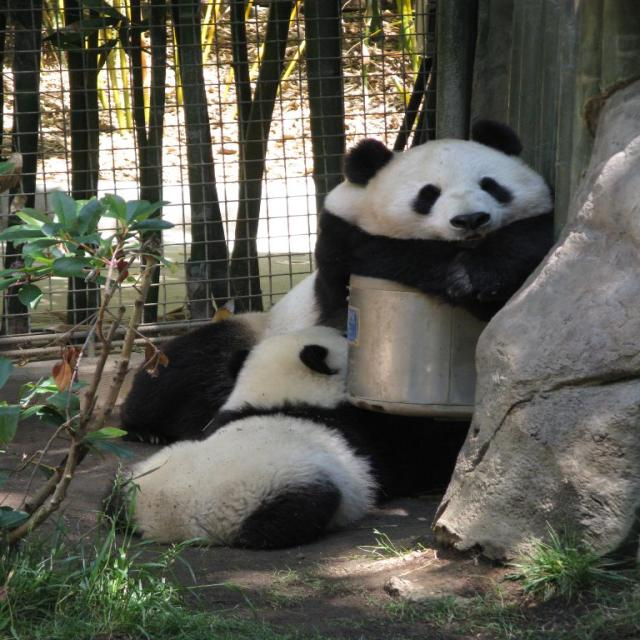panda: (101, 322, 411, 551), (314, 126, 568, 315), (125, 271, 353, 446)
